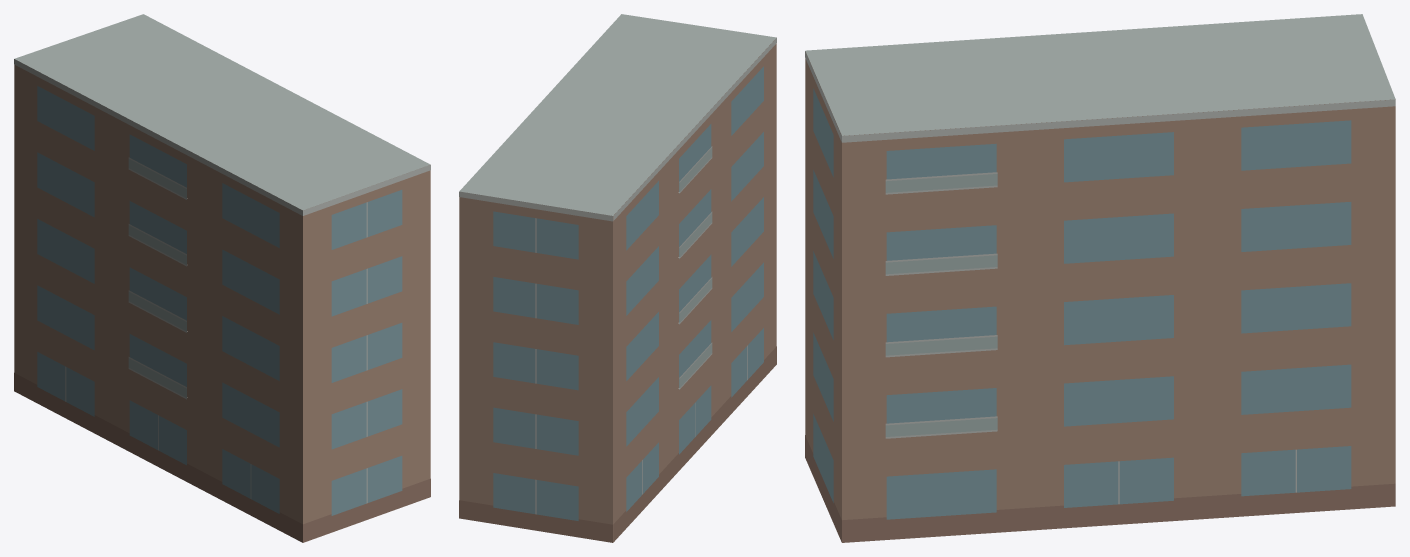
Rendered from survey-upis-32730109.glb.
3 renders of one model, left to right at view 1: azimuth 30°, elevation 25°; view 2: azimuth 150°, elevation 25°; view 3: azimuth 270°, elevation 25°, orthographic. The views are drawn at different scales.
Visible parts, largest first — view 1: survey-upis-32730109.tmp; view 2: survey-upis-32730109.tmp; view 3: survey-upis-32730109.tmp.
Part boxes in pixels (x1,y1,x2,y2): survey-upis-32730109.tmp: (14, 14, 430, 542); survey-upis-32730109.tmp: (459, 14, 776, 542); survey-upis-32730109.tmp: (805, 14, 1395, 542).
Bounding box in the file's own units: 9.26 × 14.4 × 18.95.
